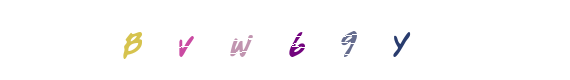6: (245, 0, 325, 80)
9: (256, 0, 336, 80)
B: (92, 0, 172, 80)
V: (167, 0, 247, 80)
W: (223, 0, 303, 80)
Y: (335, 0, 415, 80)
